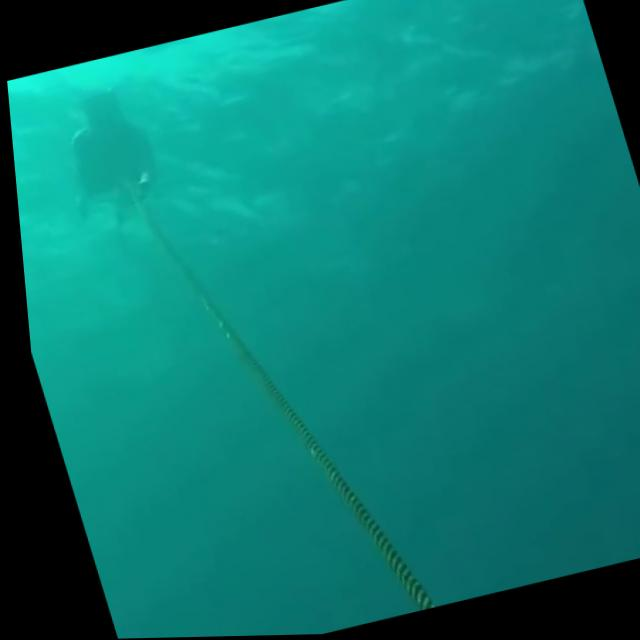human: (29, 66, 185, 264)
